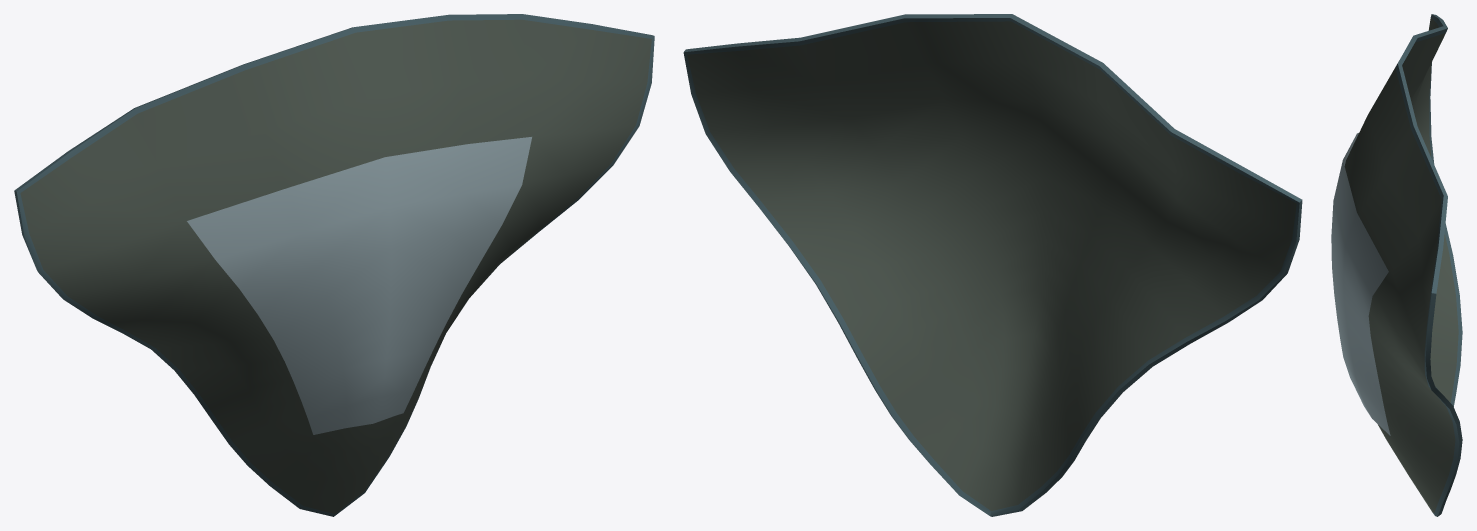
Rendered from Shield_3.fbx.
3 views of the same model, side by side, from view 1: azimuth 30°, elevation 25°; view 2: azimuth 150°, elevation 25°; view 3: azimuth 270°, elevation 25° (orthographic). The views are drawn at different scales.
Visible parts, largest first — view 1: Shield, Logo; view 2: Shield; view 3: Shield, Logo.
Part boxes in pixels (x1=…): Shield: x1=14, y1=14, x2=654, y2=516; Logo: x1=187, y1=137, x2=531, y2=434; Shield: x1=683, y1=14, x2=1302, y2=516; Shield: x1=1344, y1=14, x2=1462, y2=516; Logo: x1=1331, y1=133, x2=1390, y2=435.
Size of the model in its own units: 5.41 by 4.09 by 1.07.
